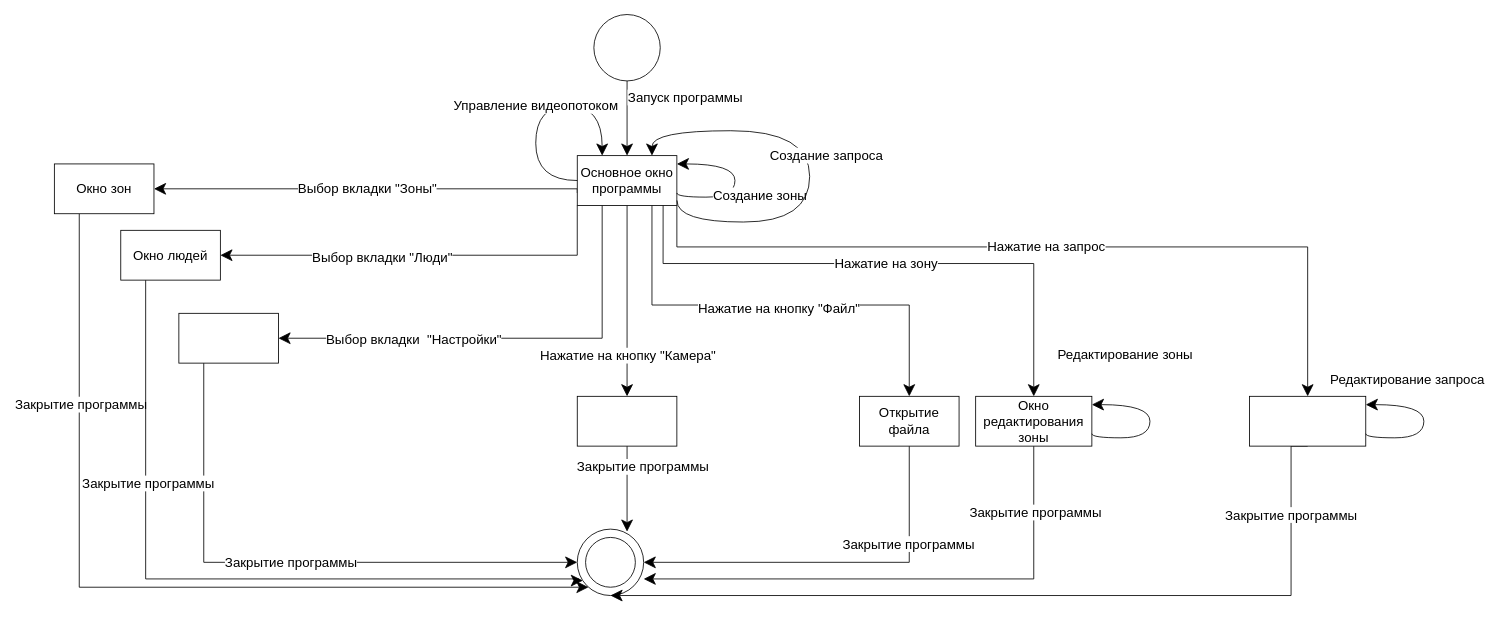
Image size: 1498x622. Some labels were removed from this diagram. Here are the shapes that lost their labels. From the top down, the box of each, then its label:
(178, 312, 278, 363): Окно настроек
(576, 395, 677, 446): Подключение к камере
(1249, 395, 1366, 446): Окно редактирования запроса
